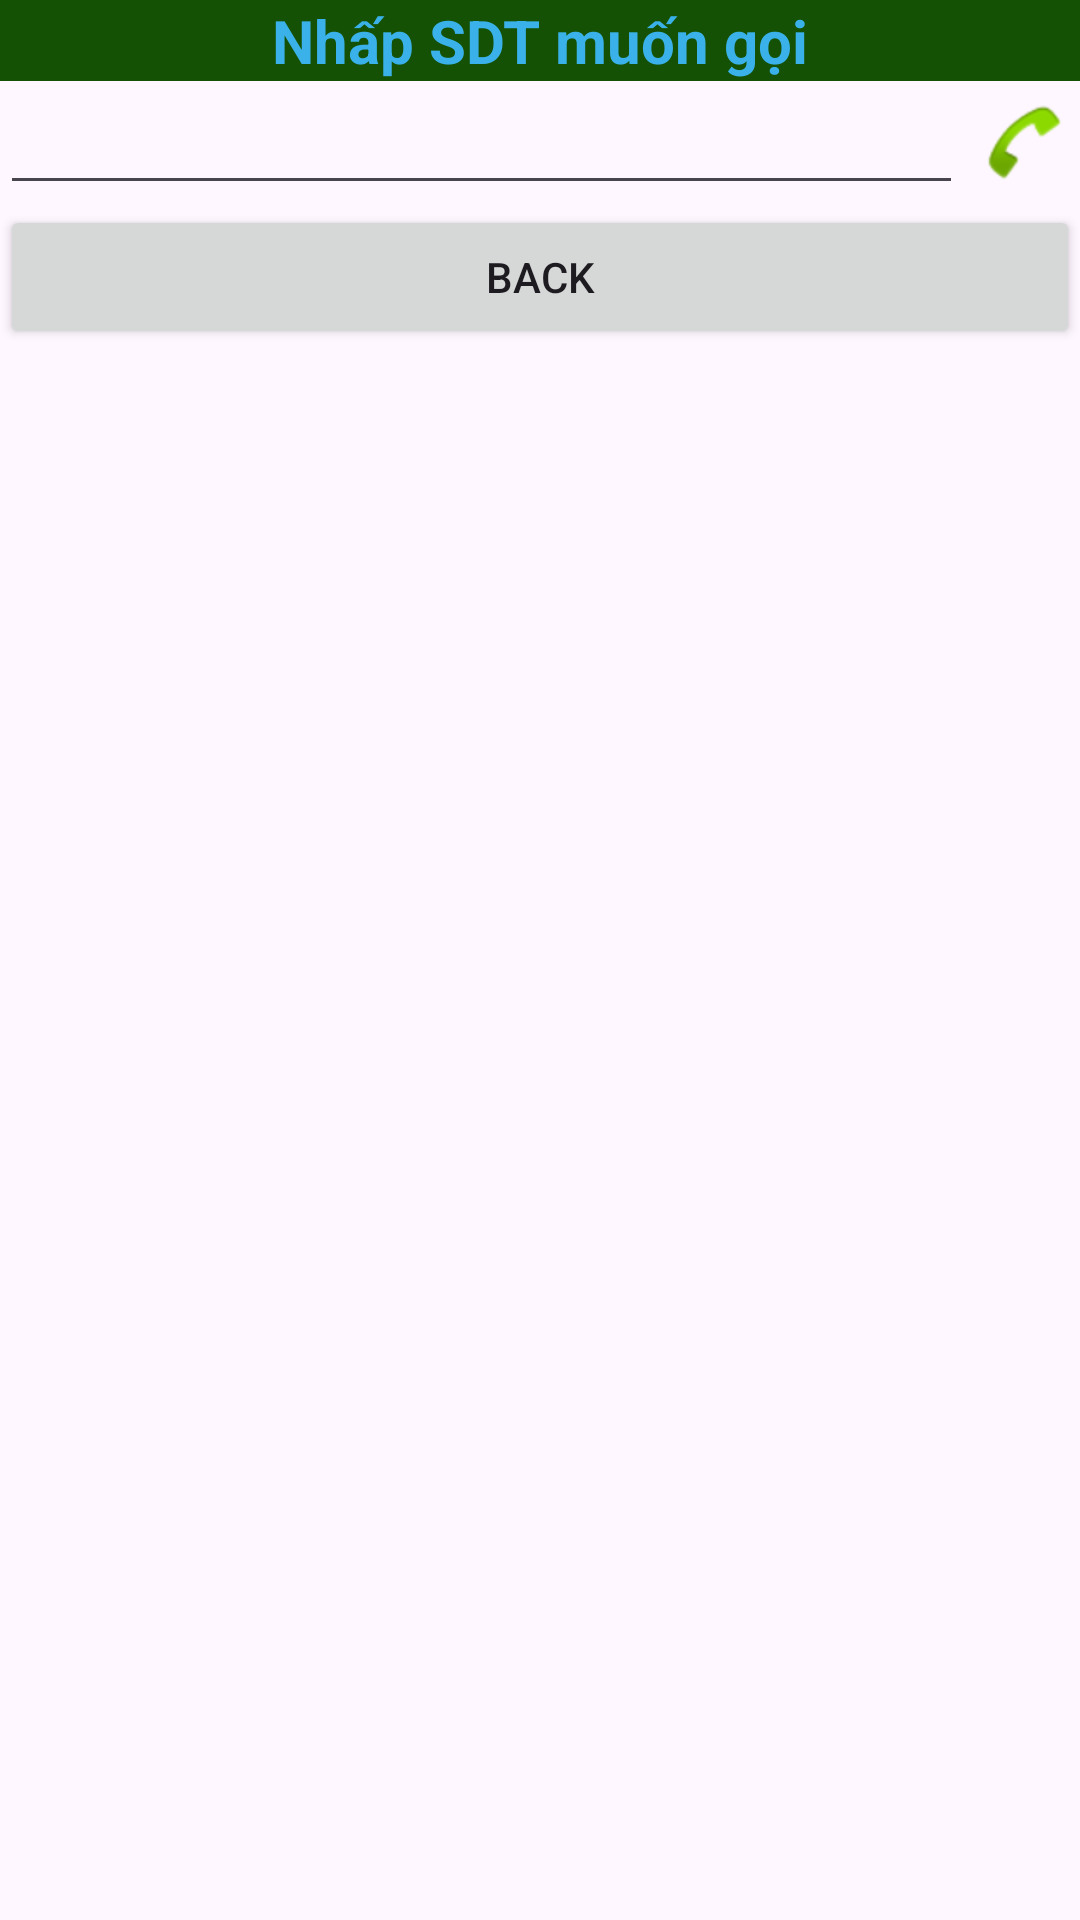

Screen size 1080×1920. Icon name, then its center in pixels as (x=x, y=y):
sym action call: (x=1024, y=142)
